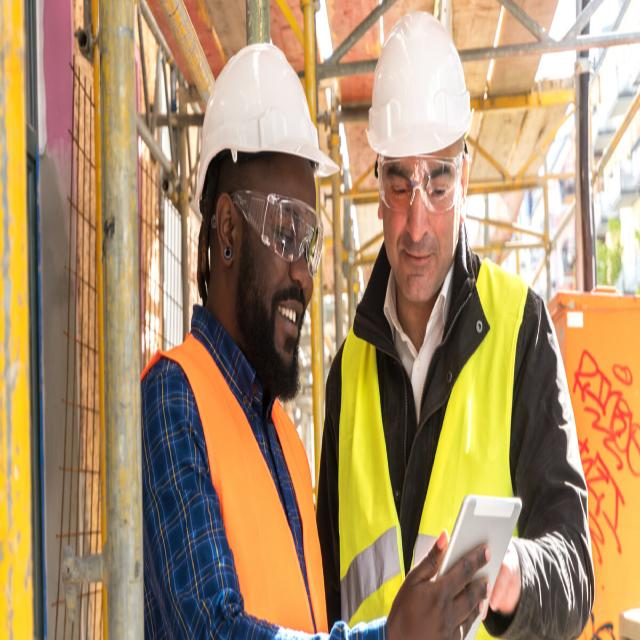goggles: (220, 182, 325, 276), (371, 154, 466, 212)
helmet: (192, 35, 342, 211), (360, 7, 477, 162)
vest: (325, 251, 568, 639), (140, 332, 328, 640)
